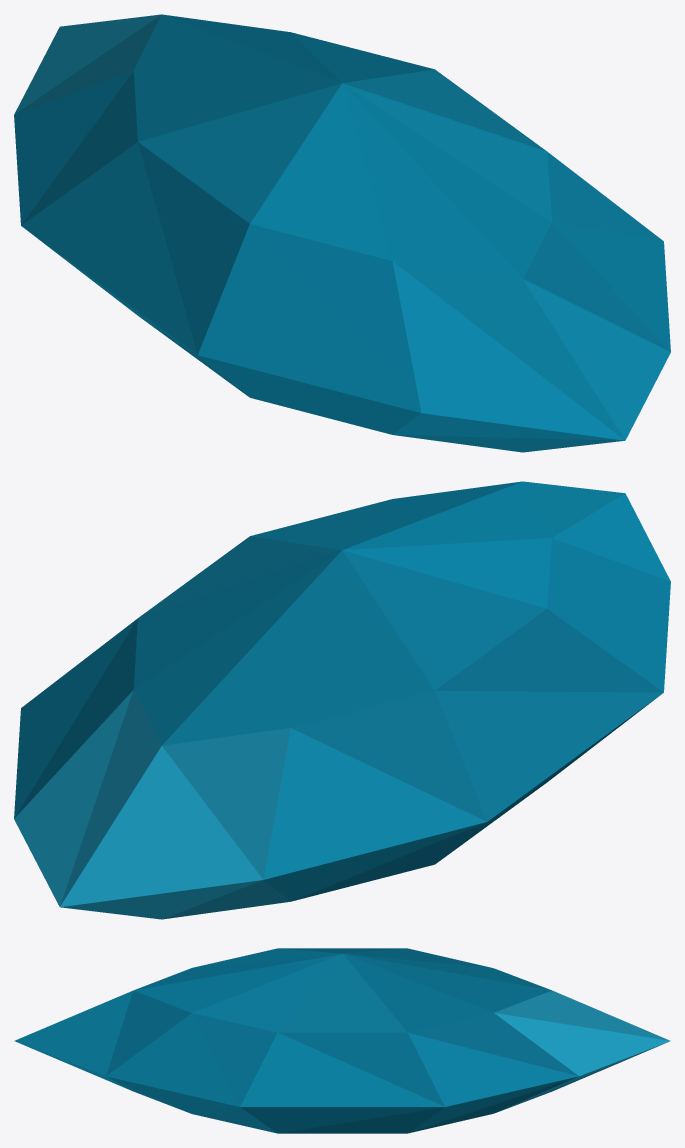
File: prop_treasure_gem_sapphire_3.fbx
3 renders of one model, top to bottom at view 1: azimuth 30°, elevation 25°; view 2: azimuth 150°, elevation 25°; view 3: azimuth 270°, elevation 25°, orthographic. The views are drawn at different scales.
Visible parts, largest first — view 1: prop_treasure_gem_sapphire_3; view 2: prop_treasure_gem_sapphire_3; view 3: prop_treasure_gem_sapphire_3.
Part boxes in pixels (left/top/right/bottom): prop_treasure_gem_sapphire_3: left=14, top=14, right=670, bottom=452; prop_treasure_gem_sapphire_3: left=14, top=481, right=670, bottom=919; prop_treasure_gem_sapphire_3: left=14, top=948, right=670, bottom=1133.
Bounding box in the file's own units: 0.2791 × 0.1719 × 0.5865.
